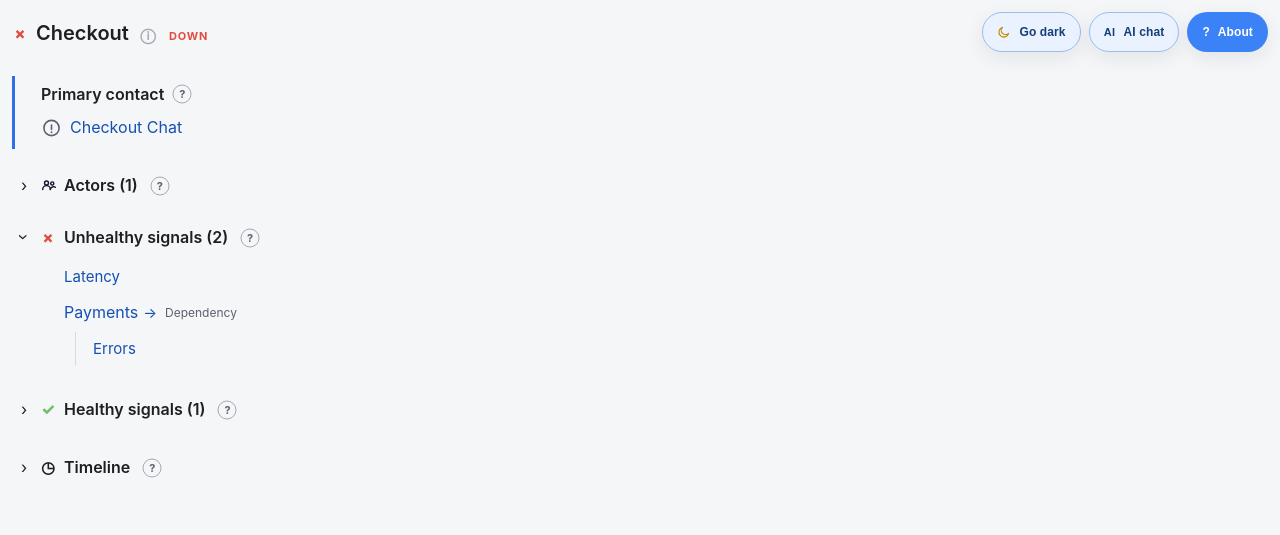
DetailsPanel contextual help › keeps disclosure expand and collapse behavior unchanged
The image size is (1280, 535).
Click the button with aria-label "Toggle Actors": (77, 185) [12, 169, 142, 201]
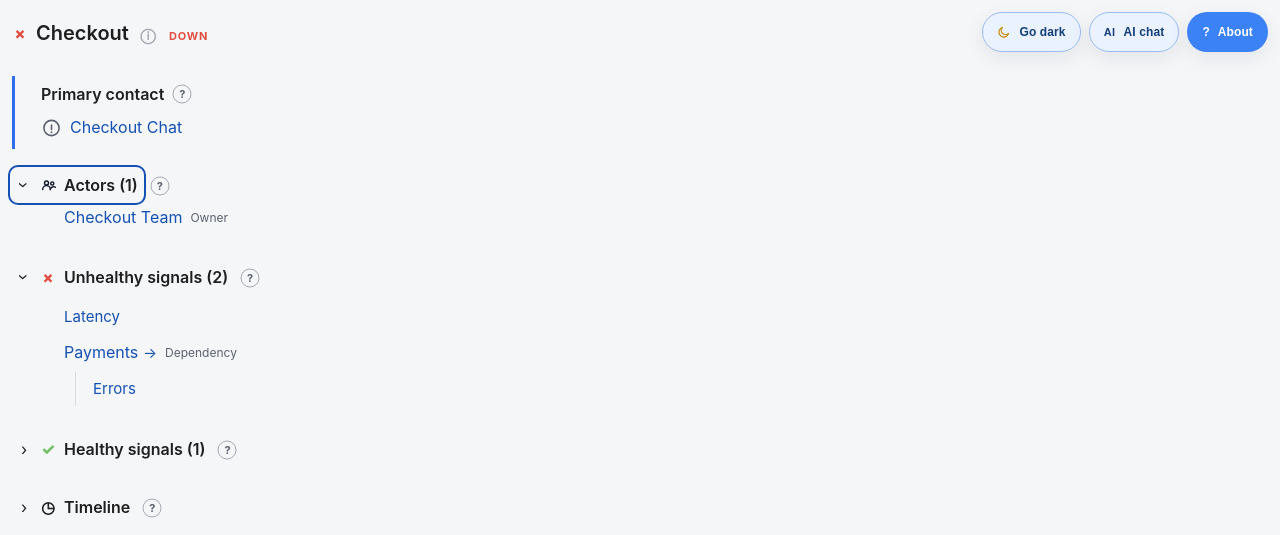
Expected: the button with aria-label "Toggle Actors" is expanded
Click the button with aria-label "Toggle Actors": (77, 185) [12, 169, 142, 201]
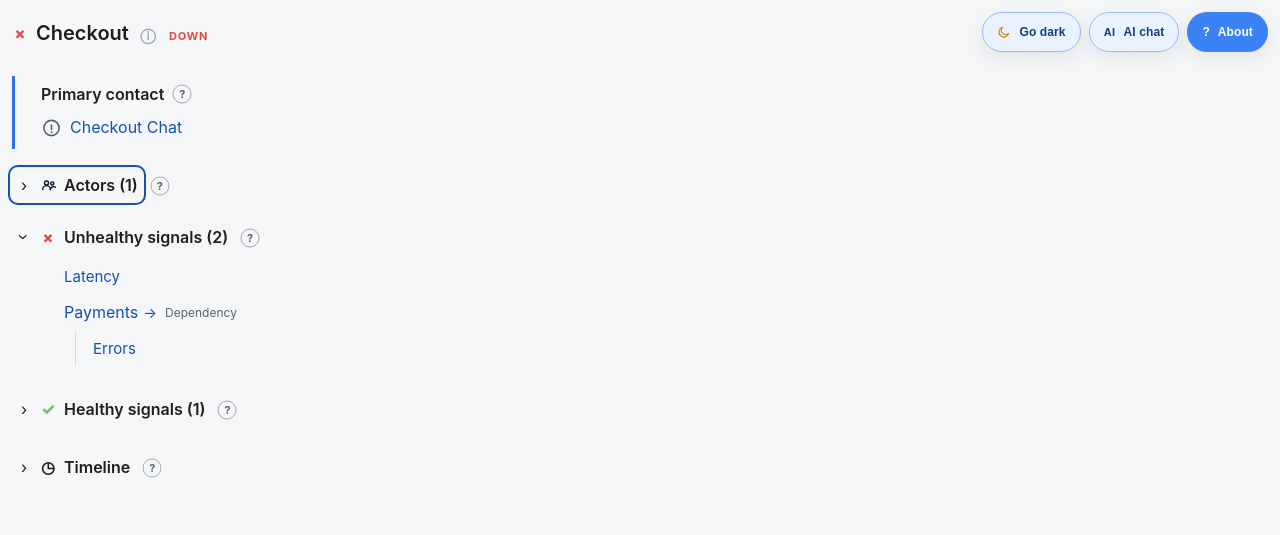
Expected: the button with aria-label "Toggle Actors" is collapsed, [12, 169, 142, 201]
Click the button with aria-label "Toggle Unhealthy signals": (122, 237) [12, 221, 232, 253]
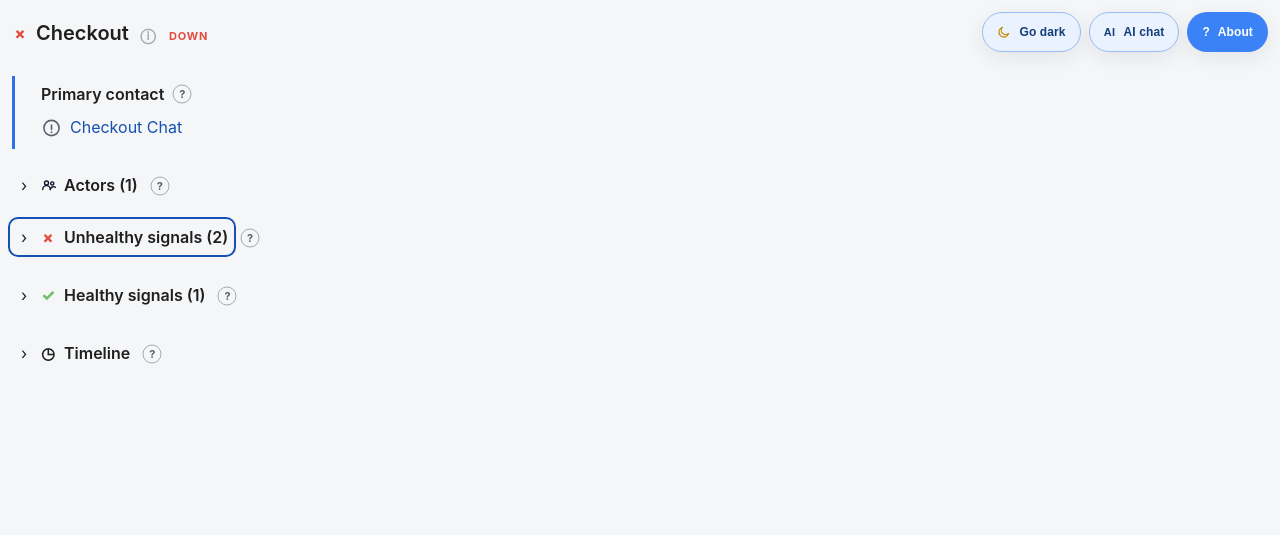
Expected: the button with aria-label "Toggle Unhealthy signals" is collapsed, [12, 221, 232, 253]
Click the button with aria-label "Toggle Healthy signals": (111, 295) [12, 279, 210, 311]
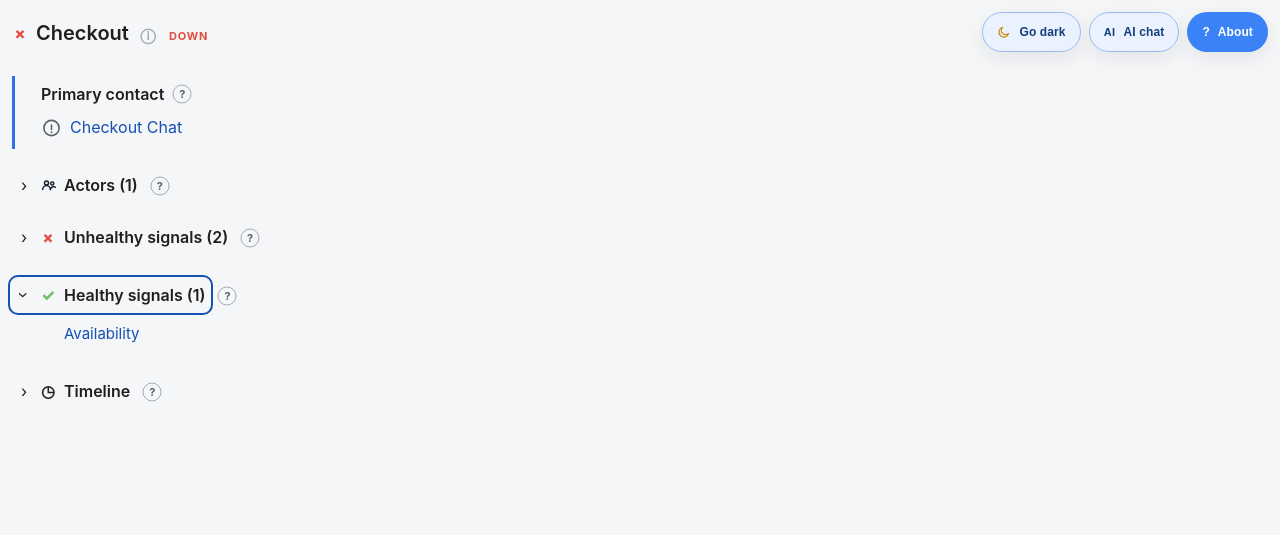
Expected: the button with aria-label "Toggle Healthy signals" is expanded, [12, 279, 210, 311]
